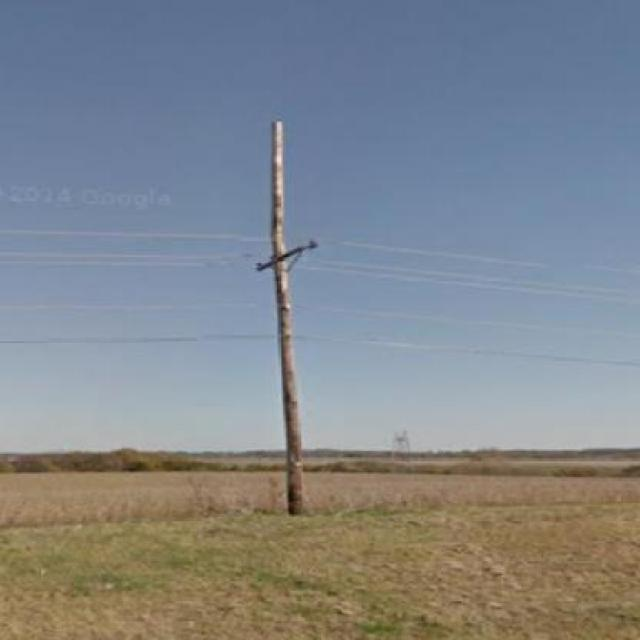pole: (143, 108, 437, 542)
